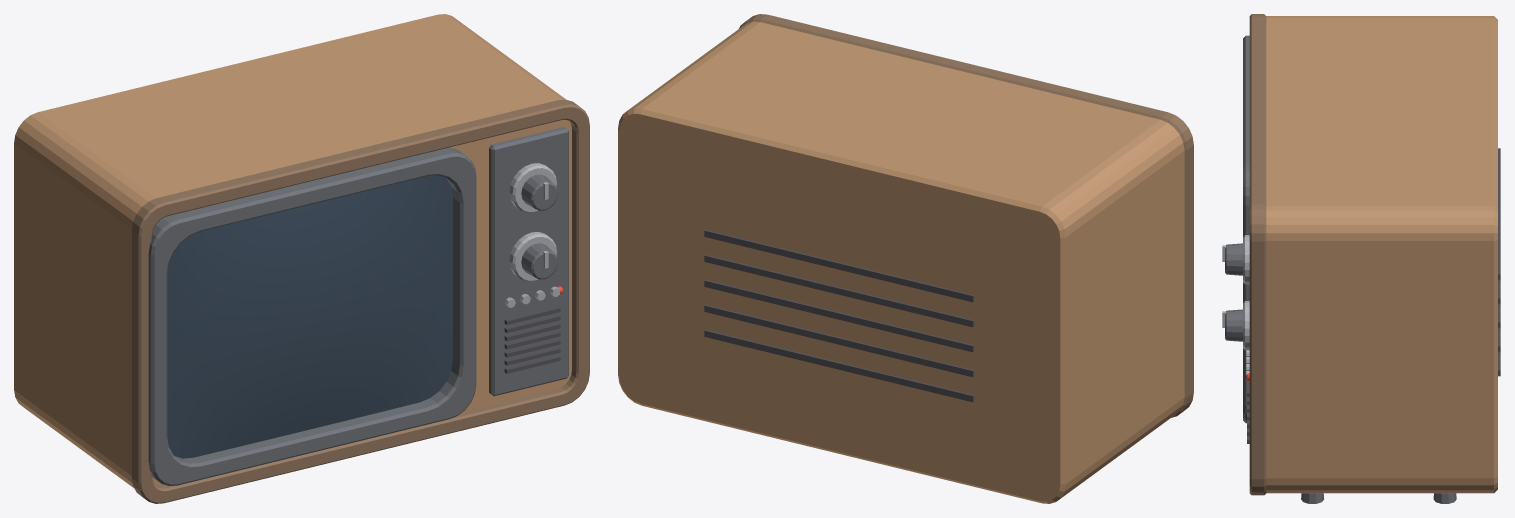
File: Garage_TV.glb
3 views of the same model, side by side, from view 1: azimuth 30°, elevation 25°; view 2: azimuth 150°, elevation 25°; view 3: azimuth 270°, elevation 25° (orthographic). The views are drawn at different scales.
Parts seen in each view (by area): view 1: Garage_TV; view 2: Garage_TV; view 3: Garage_TV.
Boxes of the visible parts, x1,y1,x2,y2 form: Garage_TV: (14, 14, 589, 503); Garage_TV: (618, 14, 1193, 503); Garage_TV: (1222, 14, 1500, 503).
Size of the model in its own units: 1.51 by 1.02 by 0.841.
